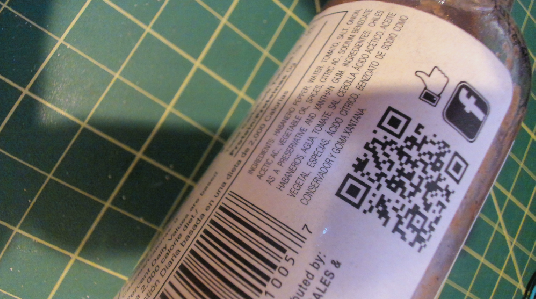QR_CODE: (326, 99, 478, 261)
